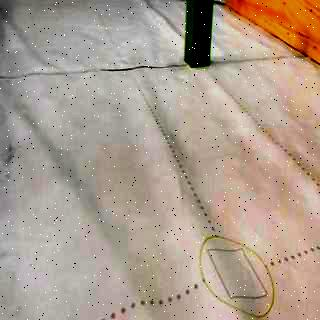greenbox: (184, 0, 215, 67)
